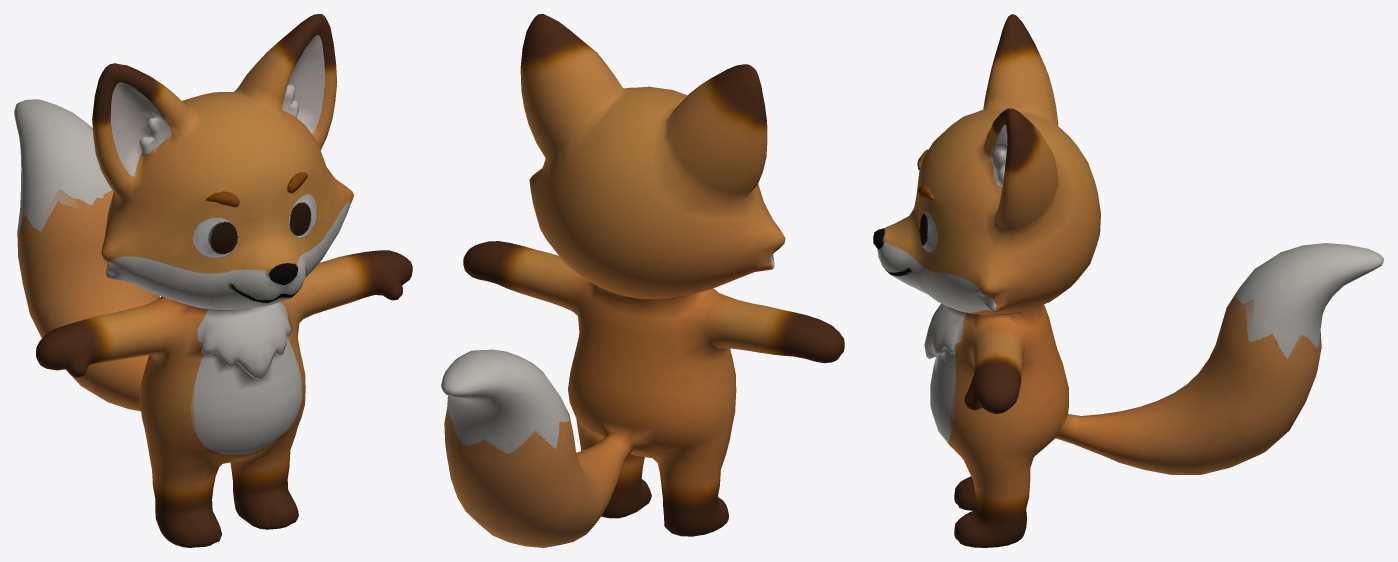
Rendered from Fox.fbx.
3 renders of one model, left to right at view 1: azimuth 30°, elevation 25°; view 2: azimuth 150°, elevation 25°; view 3: azimuth 270°, elevation 25°, orthographic. The views are drawn at different scales.
Visible parts, largest first — view 1: tripo_node_93c05198; view 2: tripo_node_93c05198; view 3: tripo_node_93c05198.
Boxes of the visible parts, <box> form: tripo_node_93c05198: <box>14,14,412,547</box>; tripo_node_93c05198: <box>441,14,844,547</box>; tripo_node_93c05198: <box>873,14,1383,547</box>.
Bounding box in the file's own units: 80.27 × 99.8 × 99.02.
Materials: 1 (1 with a texture image).
